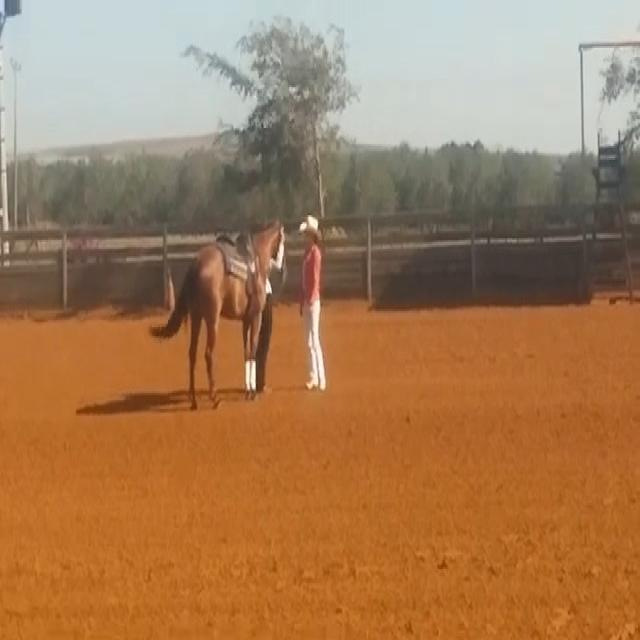horse: (148, 215, 288, 409)
